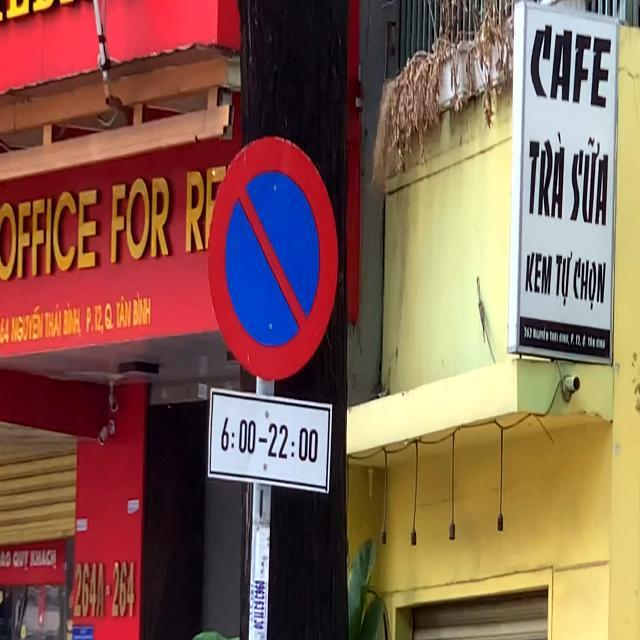P-131a: (206, 133, 338, 381)
